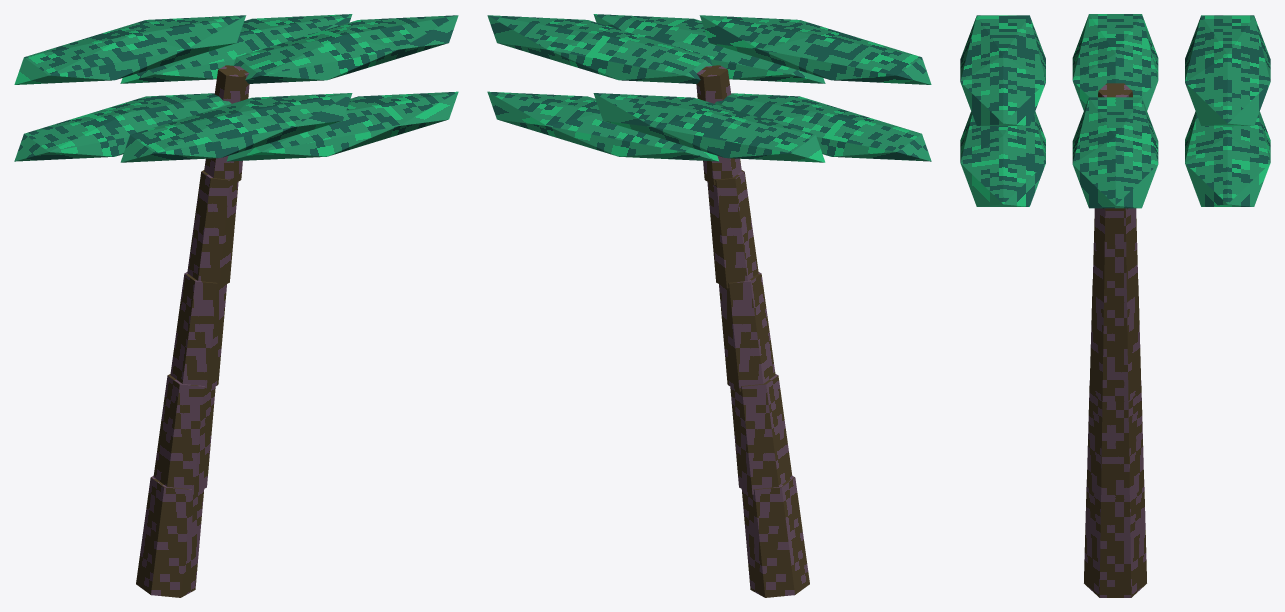
The model's file is r03_palmeira.glb.
3 renders of one model, left to right at view 1: azimuth 30°, elevation 25°; view 2: azimuth 150°, elevation 25°; view 3: azimuth 270°, elevation 25°, orthographic. The views are drawn at different scales.
Visible parts, largest first — view 1: r03_palmeira; view 2: r03_palmeira; view 3: r03_palmeira.
Boxes of the visible parts, box(x1,y1,x2,y2) form: r03_palmeira: box(14, 14, 458, 597); r03_palmeira: box(487, 14, 931, 597); r03_palmeira: box(960, 14, 1270, 597).
Size of the model in its own units: 3.77 by 4.14 by 2.15.
2 materials, 2 textured.
